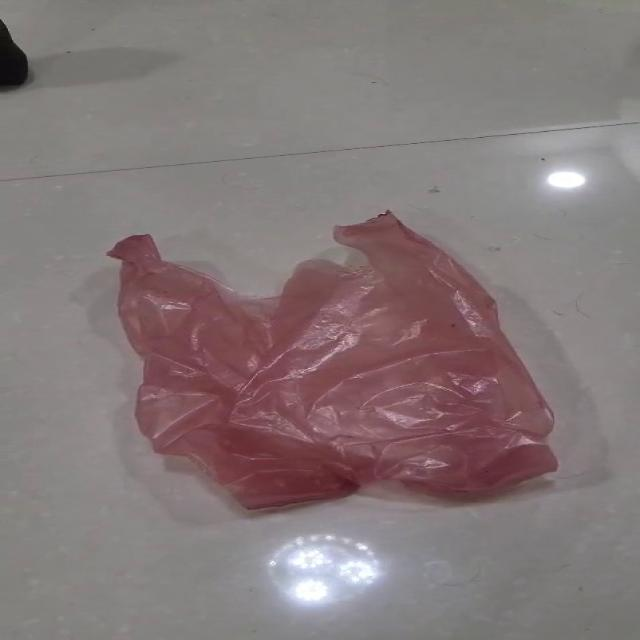plastic: (105, 208, 560, 512)
